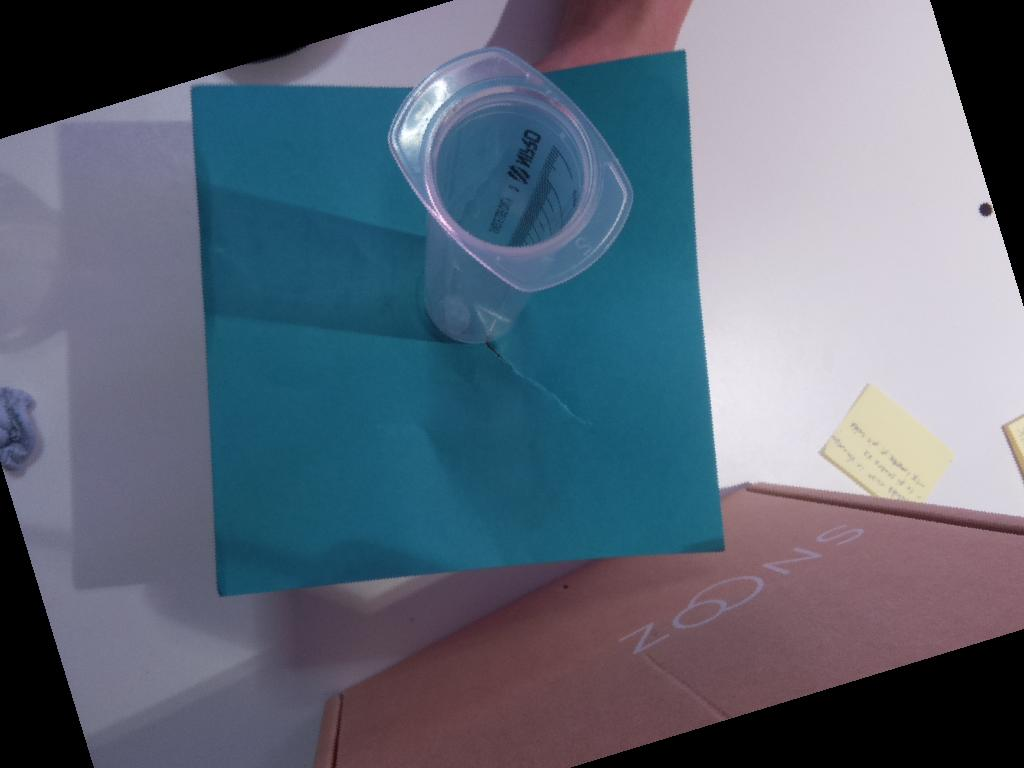clean: (386, 44, 635, 293)
